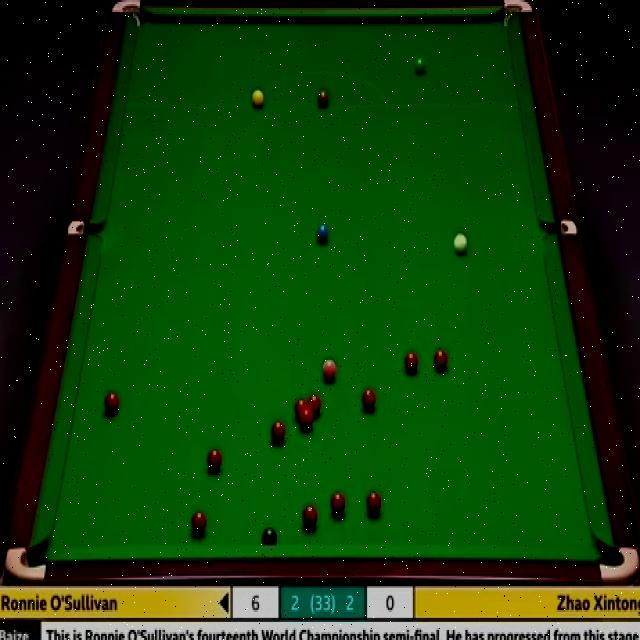black-ball: (261, 527, 278, 546)
blue-ball: (314, 219, 330, 245)
brown-ball: (316, 87, 330, 110)
green-ball: (412, 57, 427, 76)
pink-ball: (322, 355, 337, 382)
red-ball: (403, 349, 420, 378), (104, 390, 121, 418), (190, 510, 208, 536), (365, 490, 382, 516), (206, 447, 222, 474), (360, 387, 376, 413), (330, 492, 346, 517), (303, 504, 318, 529), (433, 350, 448, 374), (308, 394, 322, 419), (271, 420, 285, 444), (294, 398, 308, 419), (300, 410, 313, 430)
white-ball: (452, 231, 470, 258)
yellow-ball: (251, 88, 264, 108)
